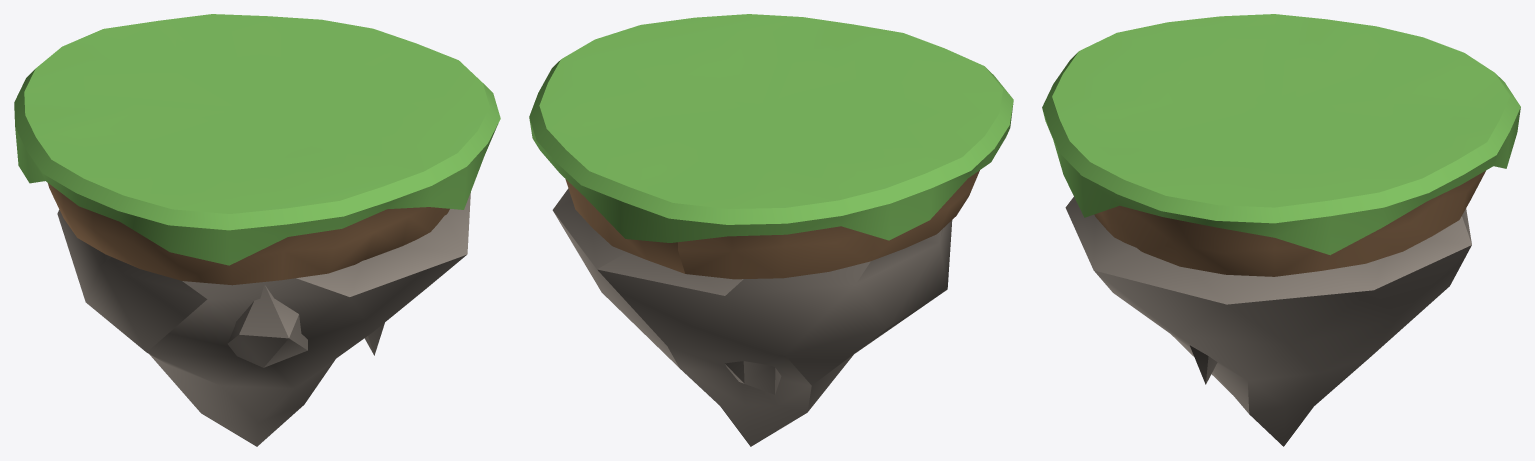
File: island-1.glb
3 views of the same model, side by side, from view 1: azimuth 30°, elevation 25°; view 2: azimuth 150°, elevation 25°; view 3: azimuth 270°, elevation 25° (orthographic). The views are drawn at different scales.
Parts seen in each view (by area): view 1: island; view 2: island; view 3: island.
Boxes of the visible parts, x1=… form: island: x1=14, y1=14, x2=500, y2=446; island: x1=529, y1=14, x2=1013, y2=446; island: x1=1042, y1=14, x2=1520, y2=446.
Bounding box in the file's own units: 2.11 × 1.63 × 2.11.
